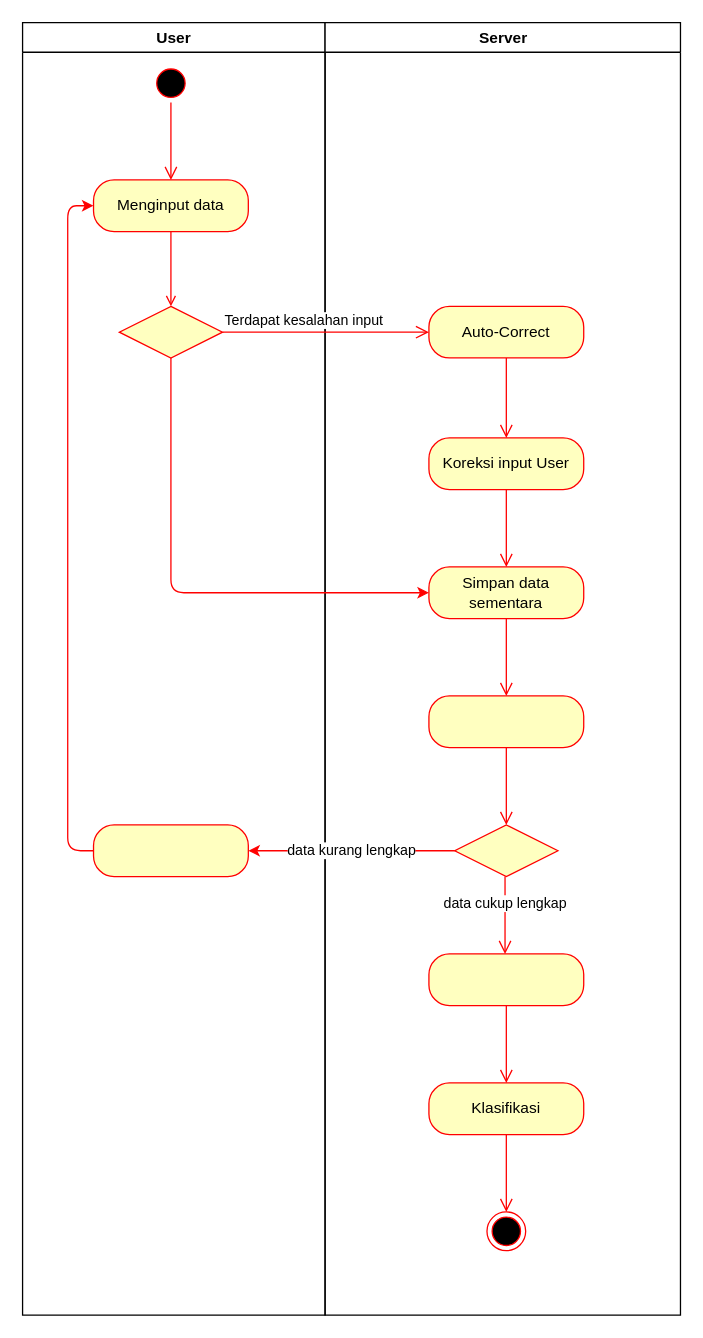
This 703x1338 diagram has some shape labels left out. Here are the shapes that lost their labels. From the top down, the centre of each, then its label:
pixel 506 721: Pengecekan skor
pixel 170 850: Feedback
pixel 506 979: Submit data
